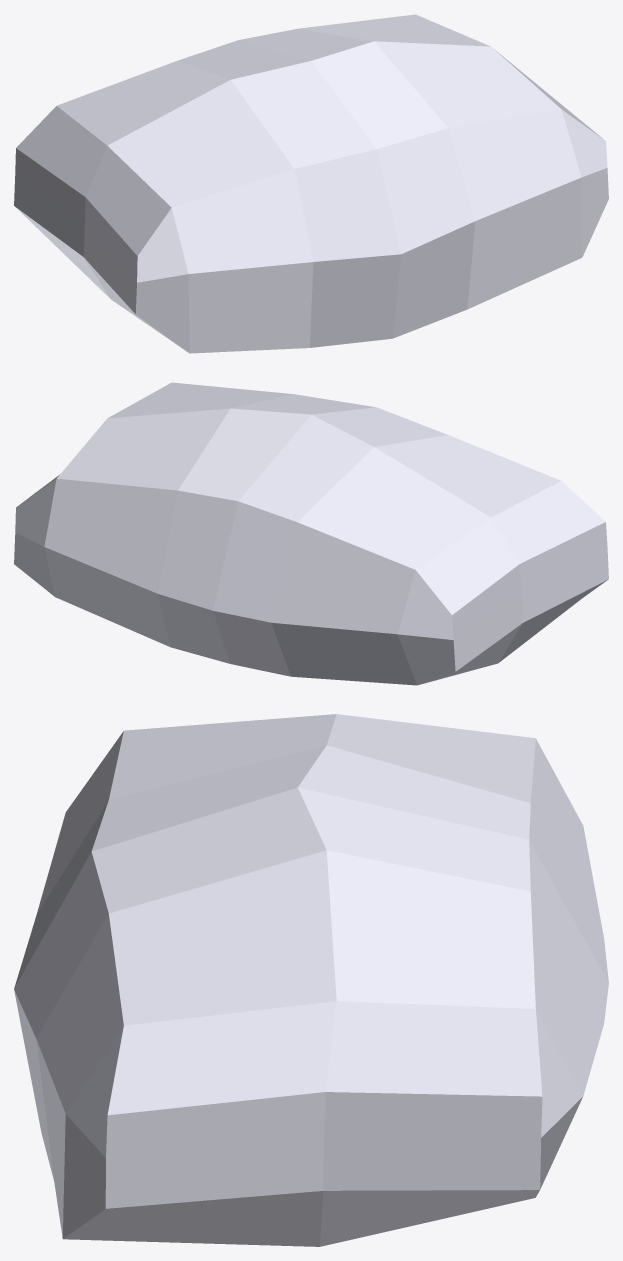
Rendered from Prop_GenericPillow_01.fbx.
The picture shows the model from 3 angles, top to bottom: view 1: azimuth 30°, elevation 25°; view 2: azimuth 150°, elevation 25°; view 3: azimuth 270°, elevation 25°; orthographic projection. The views are drawn at different scales.
Visible parts, largest first — view 1: Prop_GenericPillow_01; view 2: Prop_GenericPillow_01; view 3: Prop_GenericPillow_01.
Boxes of the visible parts, x1=… form: Prop_GenericPillow_01: x1=14, y1=14, x2=608, y2=353; Prop_GenericPillow_01: x1=14, y1=382, x2=608, y2=685; Prop_GenericPillow_01: x1=14, y1=714, x2=608, y2=1246.
Bounding box in the file's own units: 56.54 × 28.22 × 39.
